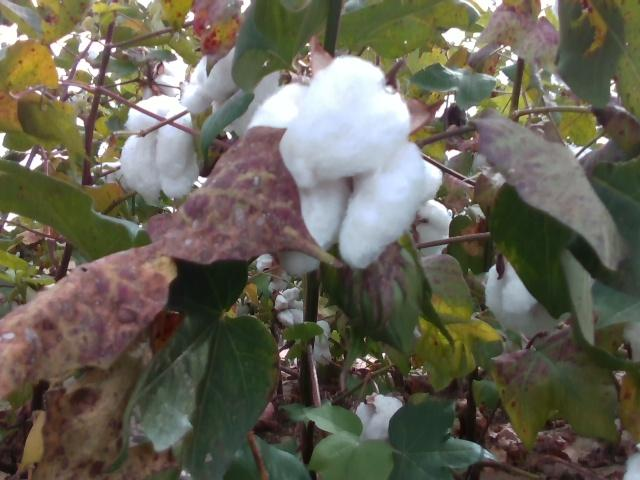cotton_ready: (281, 56, 429, 275), (183, 46, 284, 139), (119, 92, 199, 203), (486, 260, 563, 335), (401, 162, 449, 264), (358, 394, 404, 442), (255, 251, 288, 294), (275, 289, 305, 327), (315, 320, 334, 366), (624, 455, 640, 480)
